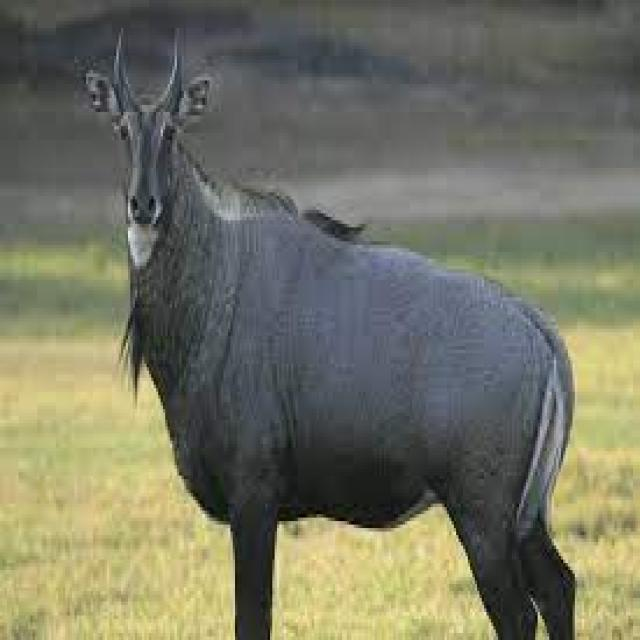objects: (57, 11, 610, 640)
